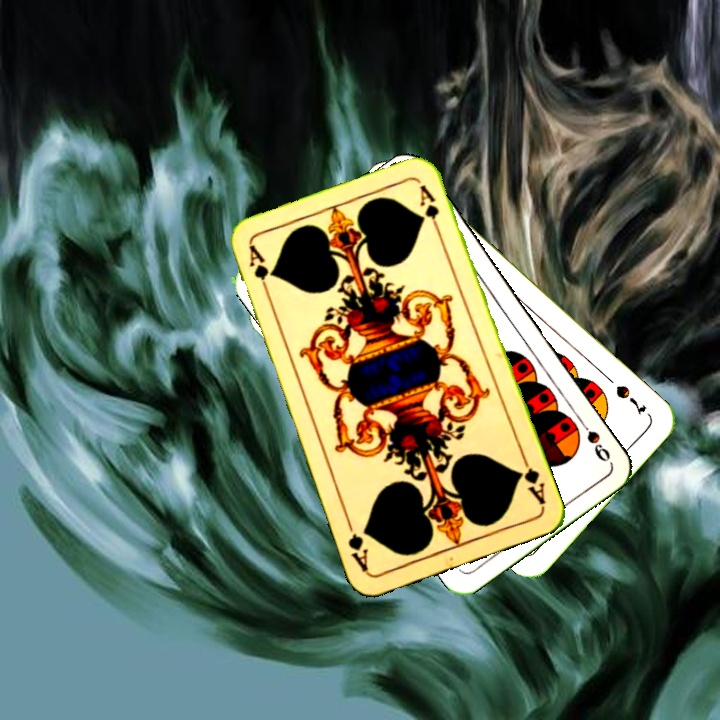GA: (514, 451, 548, 507), (245, 241, 273, 299)
S7: (611, 381, 649, 418)
S9: (573, 413, 613, 465)
